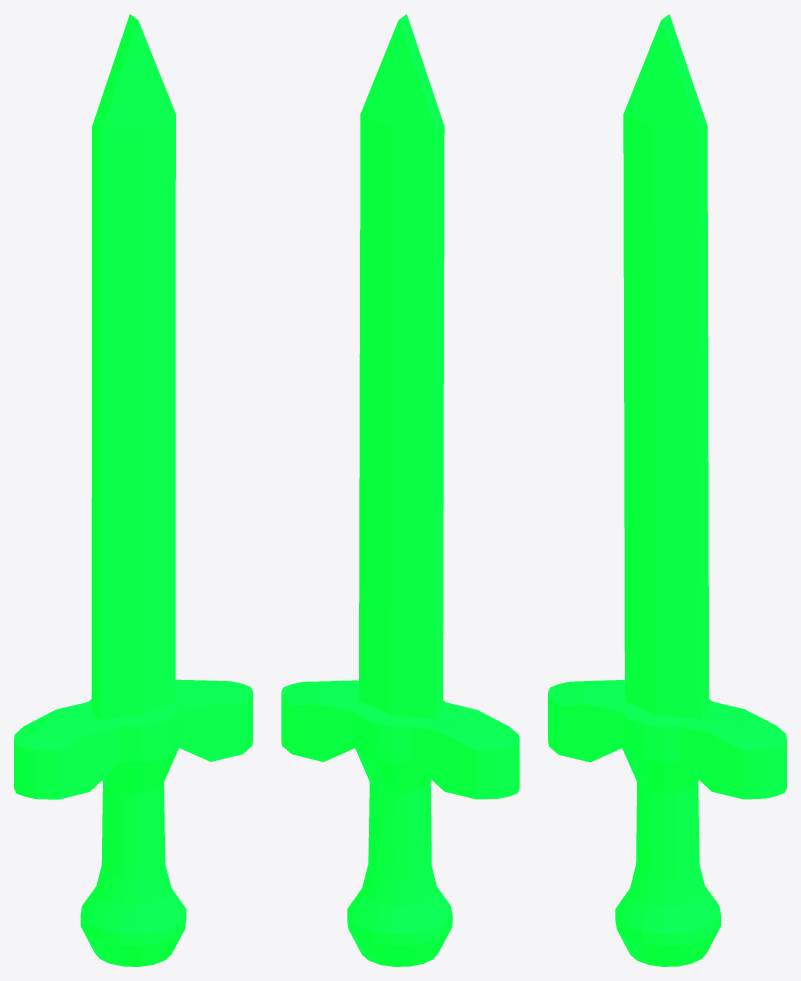
Rendered from spinning_sword_vfx.glb.
The picture shows the model from 3 angles, left to right: view 1: azimuth 30°, elevation 25°; view 2: azimuth 150°, elevation 25°; view 3: azimuth 330°, elevation 25°; orthographic projection.
Visible parts, largest first — view 1: SpinningSwordVFX; view 2: SpinningSwordVFX; view 3: SpinningSwordVFX.
Boxes of the visible parts, left/top/right/bottom form: SpinningSwordVFX: left=14, top=14, right=252, bottom=966; SpinningSwordVFX: left=281, top=14, right=519, bottom=966; SpinningSwordVFX: left=548, top=14, right=786, bottom=966.
Bounding box in the file's own units: 0.3275 × 1.25 × 0.1288.
Materials: 1 (1 with a texture image).
